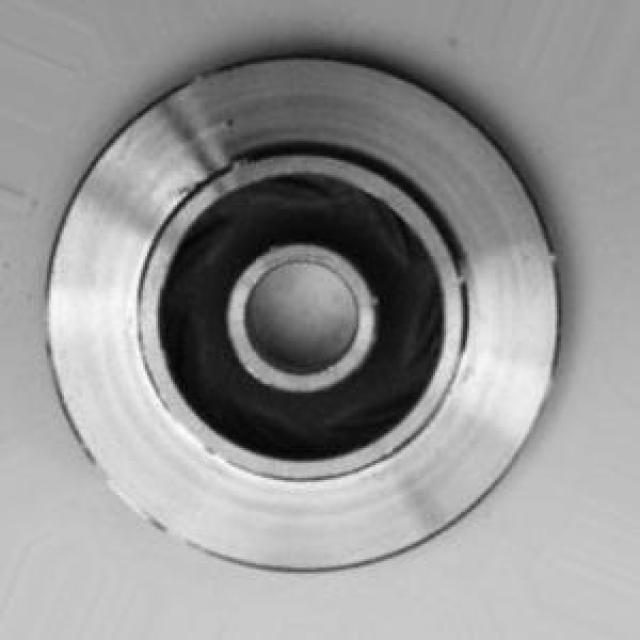Defect: (200, 147, 254, 184)
